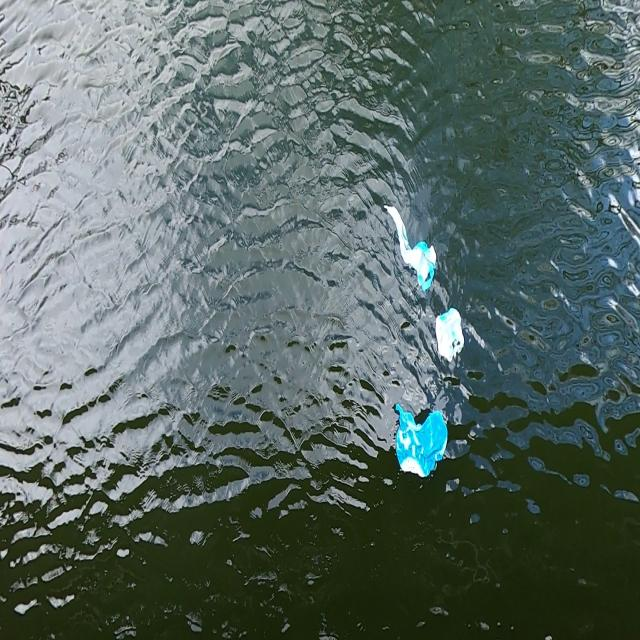Sac plastique: (381, 200, 441, 296), (387, 399, 453, 485), (432, 304, 468, 370)
